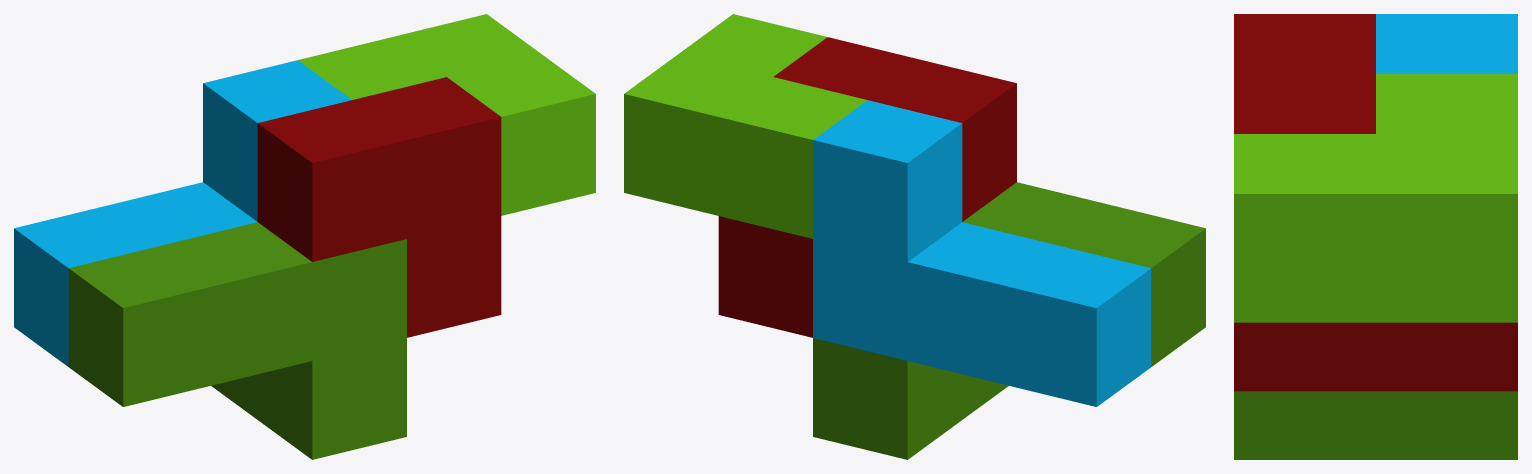
3 renders of one model, left to right at view 1: azimuth 30°, elevation 25°; view 2: azimuth 150°, elevation 25°; view 3: azimuth 270°, elevation 25°, orthographic. The views are drawn at different scales.
Parts seen in each view (by area): view 1: mergedBlocks(Clone); view 2: mergedBlocks(Clone); view 3: mergedBlocks(Clone).
Boxes of the visible parts, left/top/right/bottom form: mergedBlocks(Clone): left=14, top=14, right=595, bottom=459; mergedBlocks(Clone): left=624, top=14, right=1205, bottom=459; mergedBlocks(Clone): left=1234, top=14, right=1517, bottom=459.
Size of the model in its own units: 5 by 3 by 2.
4 materials, 4 textured.
